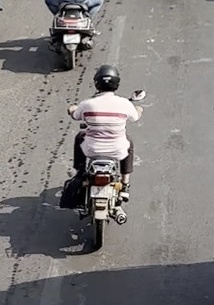BikeWithRider: (53, 61, 150, 254)
Helmet: (90, 61, 125, 97)
